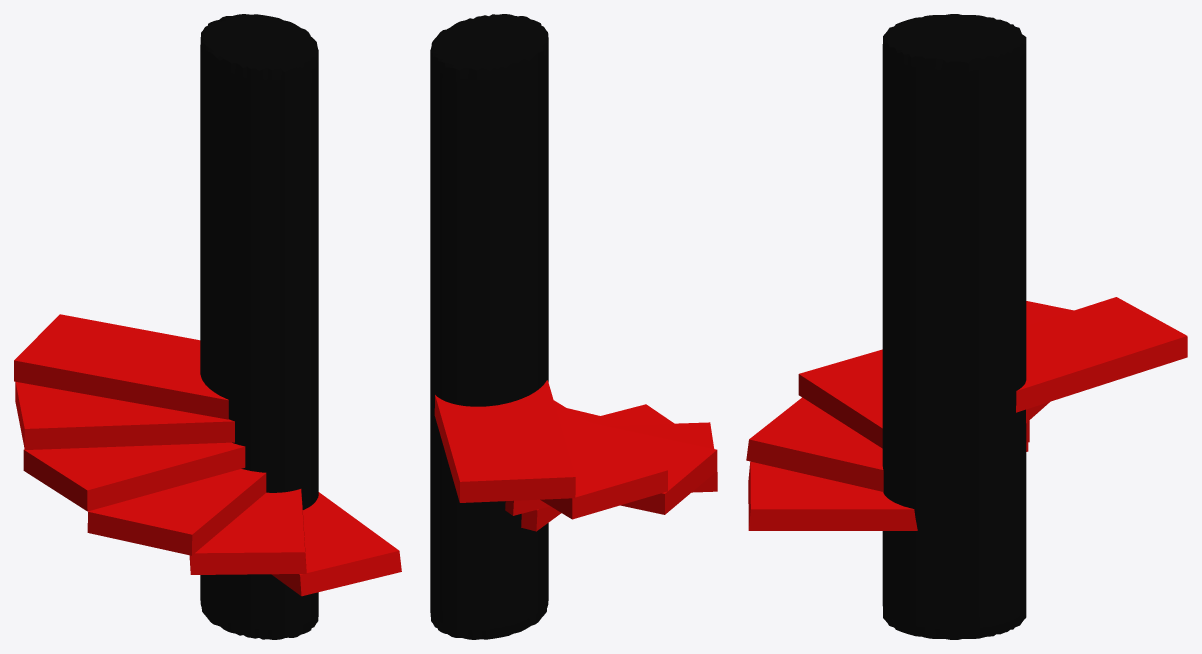
3 renders of one model, left to right at view 1: azimuth 30°, elevation 25°; view 2: azimuth 150°, elevation 25°; view 3: azimuth 270°, elevation 25°, orthographic.
Parts seen in each view (by area): view 1: Cylinder, Stair.006, Stair.004, Stair.005, Stair.003, Stair.002, Stair.001; view 2: Cylinder, Stair.006, Stair.005, Stair.004, Stair.003, Stair.002, Stair.001; view 3: Cylinder, Stair.006, Stair.001, Stair.002, Stair.003, Stair.005.
Part boxes in pixels (left/top/right/bottom): Cylinder: left=200, top=14, right=318, bottom=639; Stair.006: left=14, top=314, right=228, bottom=419; Stair.004: left=23, top=442, right=245, bottom=511; Stair.005: left=15, top=381, right=234, bottom=449; Stair.003: left=87, top=469, right=266, bottom=555; Stair.002: left=189, top=489, right=306, bottom=574; Stair.001: left=271, top=492, right=401, bottom=596; Cylinder: left=430, top=14, right=548, bottom=639; Stair.006: left=434, top=380, right=575, bottom=502; Stair.005: left=540, top=400, right=667, bottom=519; Stair.004: left=591, top=423, right=717, bottom=514; Stair.003: left=607, top=422, right=717, bottom=492; Stair.002: left=505, top=404, right=674, bottom=515; Stair.001: left=521, top=408, right=599, bottom=531; Cylinder: left=882, top=14, right=1026, bottom=639; Stair.006: left=1016, top=297, right=1187, bottom=412; Stair.001: left=748, top=461, right=917, bottom=530; Stair.002: left=746, top=397, right=883, bottom=491; Stair.003: left=798, top=349, right=1028, bottom=451; Stair.005: left=1026, top=301, right=1073, bottom=422.
Size of what is drawn, in the model's own units: 3.78 by 8.11 by 5.59.
